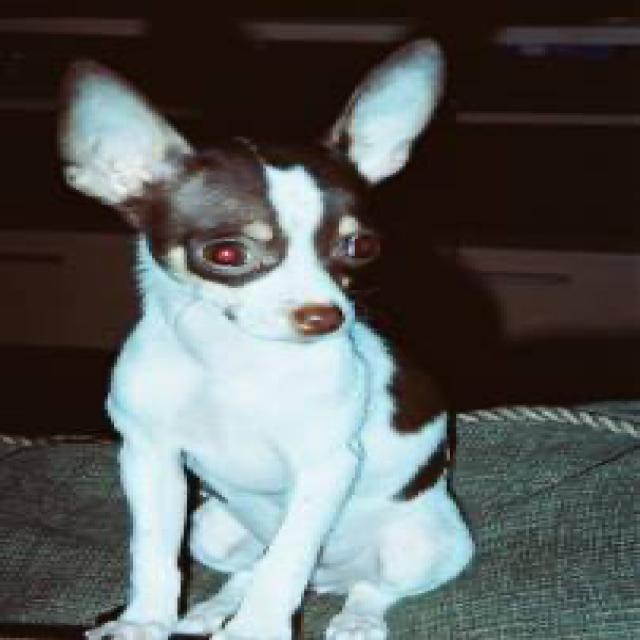dog: (51, 34, 443, 341)
